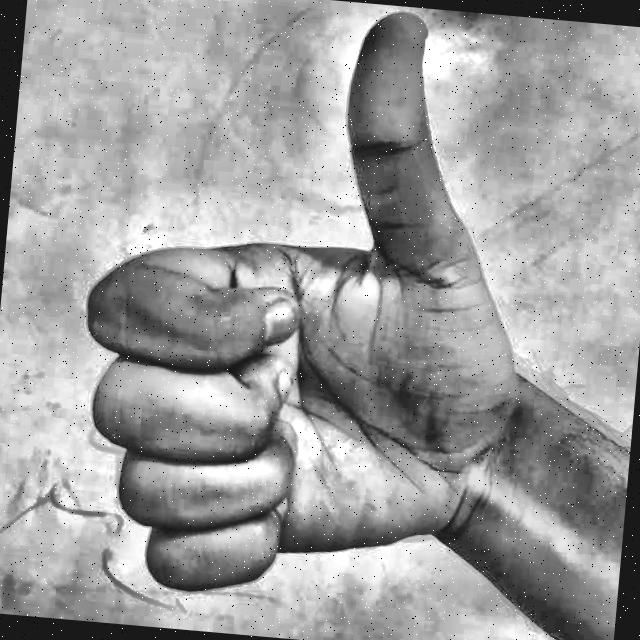Do: (20, 0, 547, 635)
